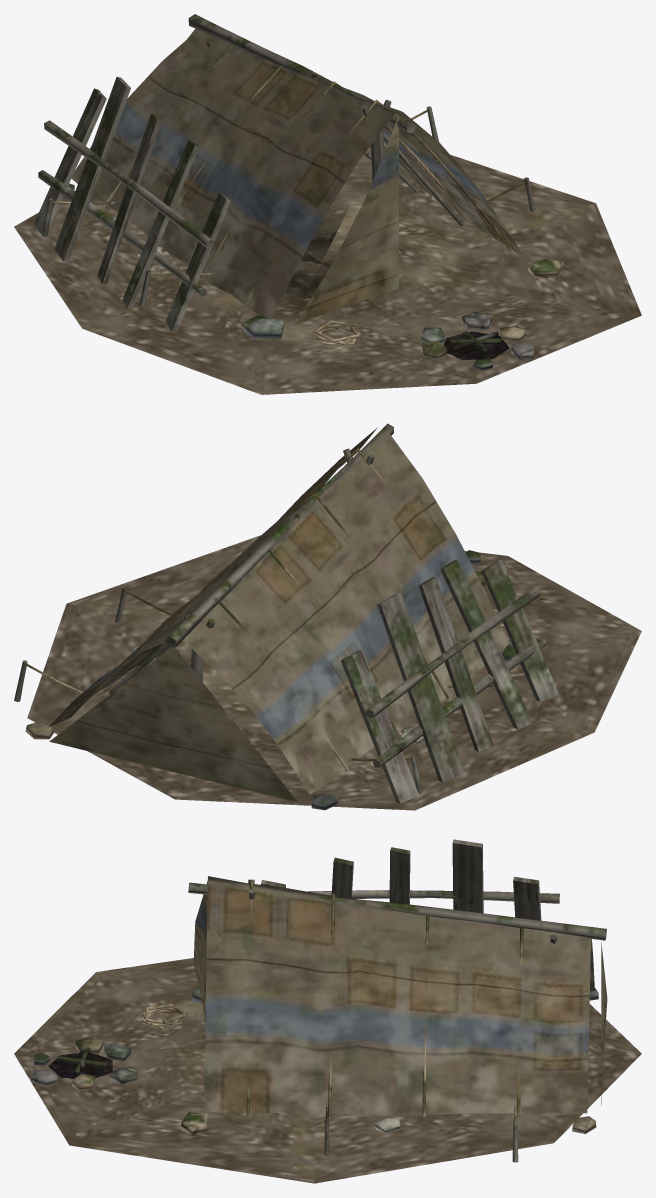
File: kit_lean_to_live.glb
The picture shows the model from 3 angles, top to bottom: view 1: azimuth 30°, elevation 25°; view 2: azimuth 150°, elevation 25°; view 3: azimuth 270°, elevation 25°; orthographic projection. The views are drawn at different scales.
Parts seen in each view (by area): view 1: body, sail, door, plank_02, plank_04, plank_03, plank_05, plank_01; view 2: sail, body, plank_02, plank_04, plank_01, plank_03, plank_05; view 3: sail, body, plank_02, door, plank_03, plank_01, plank_04.
Part boxes in pixels (x1,y1,x2,y2): body: (14, 14, 641, 394); sail: (71, 28, 527, 319); door: (295, 116, 398, 324); plank_02: (54, 76, 130, 261); plank_04: (122, 140, 198, 308); plank_03: (97, 113, 161, 284); plank_05: (165, 192, 230, 332); plank_01: (33, 88, 106, 234); sail: (49, 427, 508, 802); body: (14, 423, 641, 810); plank_02: (377, 592, 464, 782); plank_04: (440, 560, 532, 729); plank_01: (341, 650, 418, 803); plank_03: (418, 577, 493, 751); plank_05: (481, 559, 559, 701); sail: (204, 876, 607, 1117); body: (14, 879, 641, 1183); plank_02: (452, 839, 483, 913); door: (193, 881, 207, 1023); plank_03: (389, 847, 410, 904); plank_01: (513, 876, 541, 920); plank_04: (331, 857, 353, 898).
Size of what is drawn, in the model's own units: 4.58 by 1.69 by 5.
Materials: 2 (2 with a texture image).
